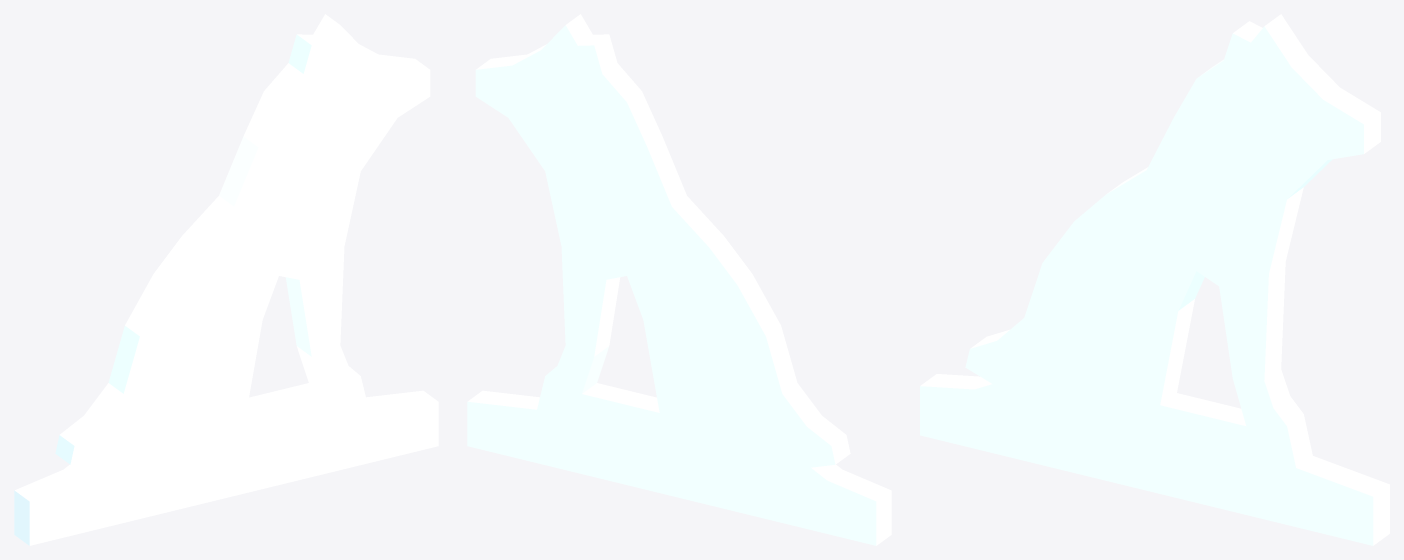
The model's file is roof_seated_dog.glb.
3 views of the same model, side by side, from view 1: azimuth 30°, elevation 25°; view 2: azimuth 150°, elevation 25°; view 3: azimuth 330°, elevation 25° (orthographic). The views are drawn at different scales.
Parts seen in each view (by area): view 1: H-SG-001_roof_seated_dog; view 2: H-SG-001_roof_seated_dog; view 3: H-SG-001_roof_seated_dog.
Part boxes in pixels (bbox=[...]): H-SG-001_roof_seated_dog: bbox=[14, 14, 438, 545]; H-SG-001_roof_seated_dog: bbox=[467, 14, 891, 545]; H-SG-001_roof_seated_dog: bbox=[920, 14, 1389, 545].
Size of the model in its own units: 0.5 by 0.52 by 0.032.
